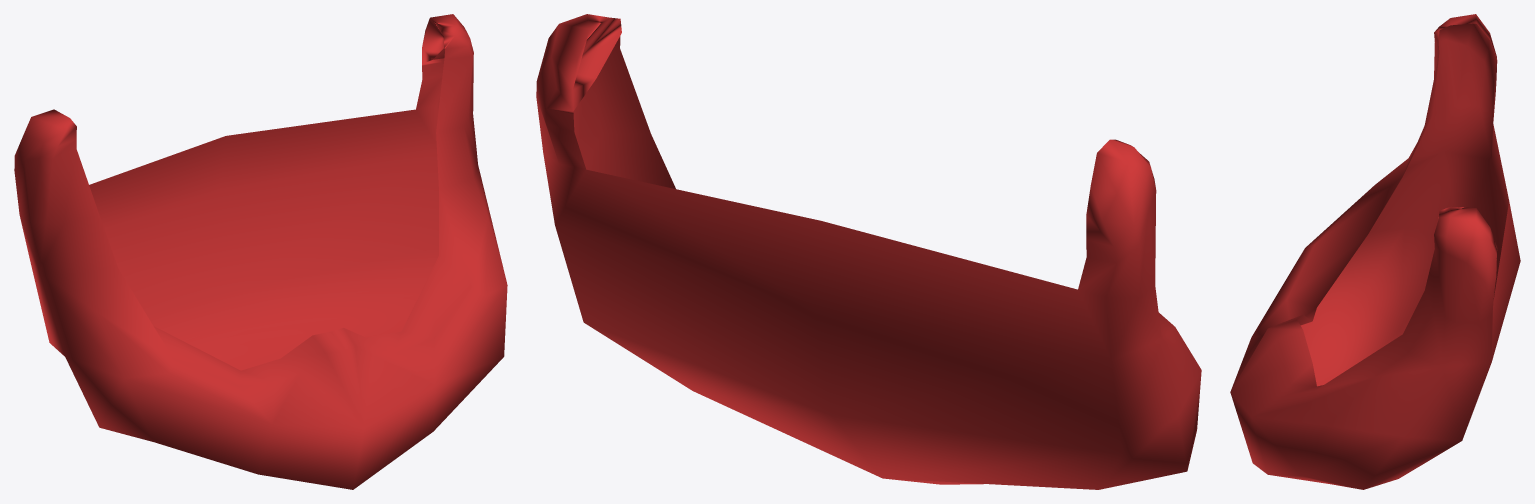
The model's file is Beard_Red_10.fbx.
The picture shows the model from 3 angles, left to right: view 1: azimuth 30°, elevation 25°; view 2: azimuth 150°, elevation 25°; view 3: azimuth 270°, elevation 25°; orthographic projection. The views are drawn at different scales.
Visible parts, largest first — view 1: Beard_Red_10; view 2: Beard_Red_10; view 3: Beard_Red_10.
Part boxes in pixels (box(x1,y1,x2,y2)): Beard_Red_10: box(14, 14, 507, 489); Beard_Red_10: box(536, 14, 1201, 489); Beard_Red_10: box(1230, 14, 1520, 489).
Bounding box in the file's own units: 52.51 × 38.74 × 29.34.
